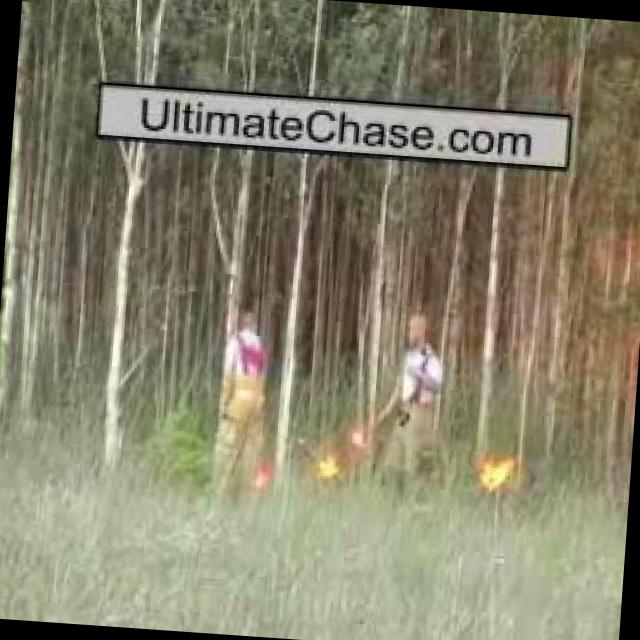Fire: (467, 442, 526, 499)
